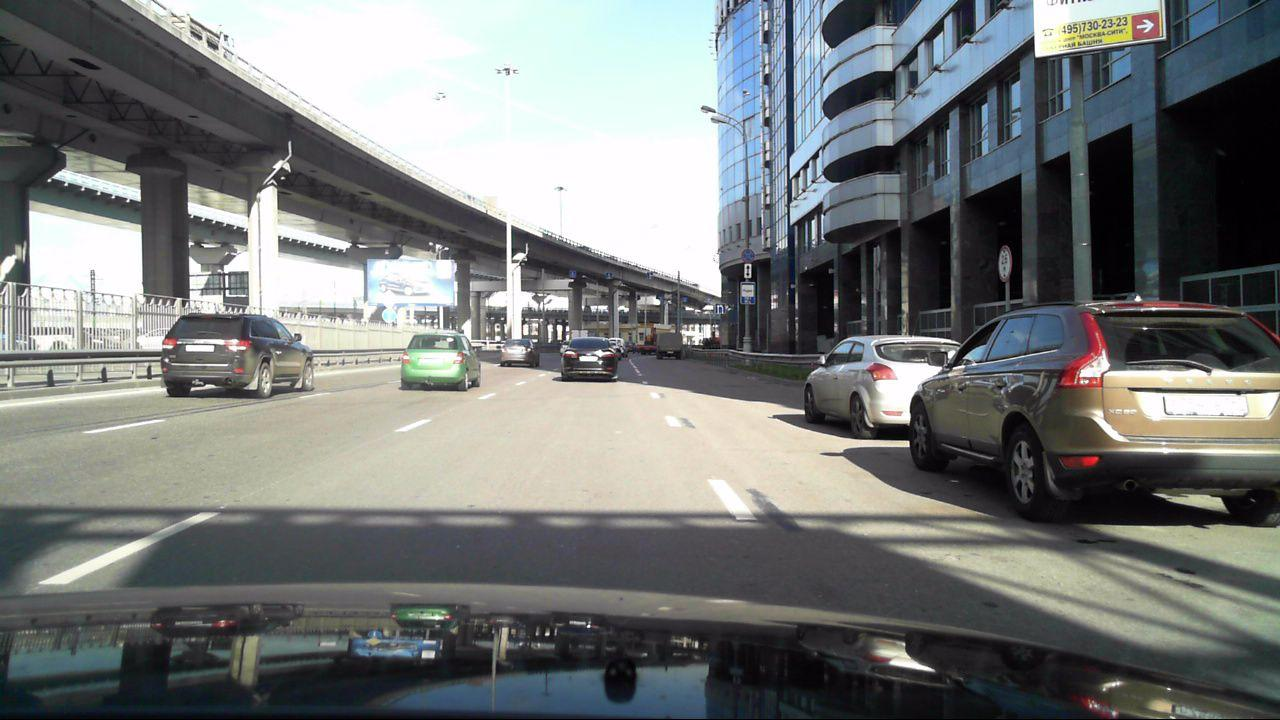3_27: (741, 248, 756, 263)
5_15_2: (605, 272, 614, 280), (569, 270, 577, 278), (682, 296, 688, 303)
5_15_5: (715, 302, 726, 315)
7_15: (739, 280, 758, 305)
8_2_4: (744, 264, 753, 279)
